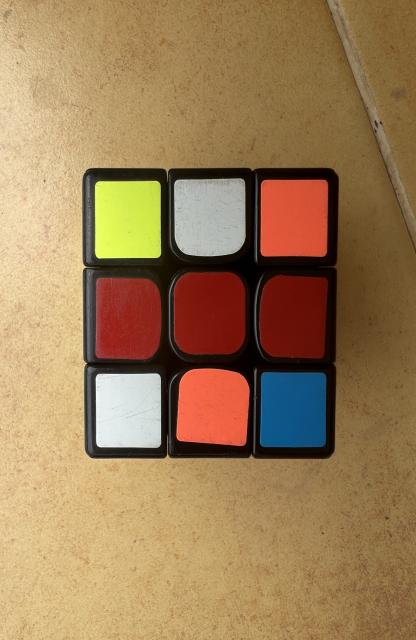Blue: (260, 372, 326, 448)
Orange: (177, 369, 249, 446), (260, 180, 328, 256)
Red: (173, 272, 246, 355), (260, 275, 328, 359), (95, 278, 161, 360)
White: (174, 179, 246, 256), (95, 374, 161, 448)
Yellow: (94, 181, 161, 259)
